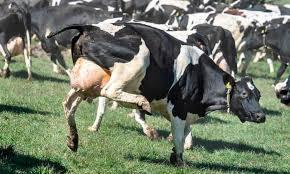cow: (62, 23, 267, 169), (0, 0, 33, 84)
